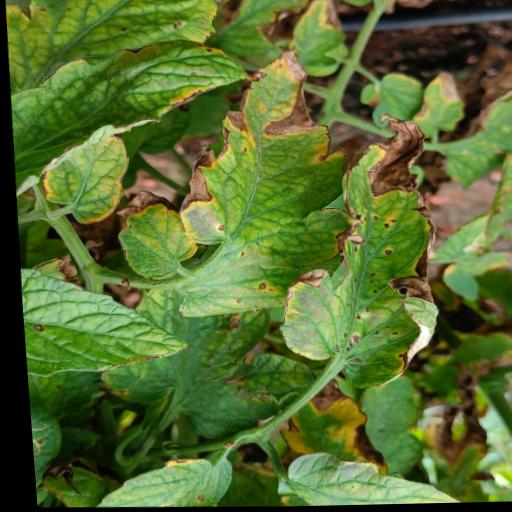Early Blight: (151, 41, 357, 323), (256, 108, 447, 395), (84, 452, 230, 510)
